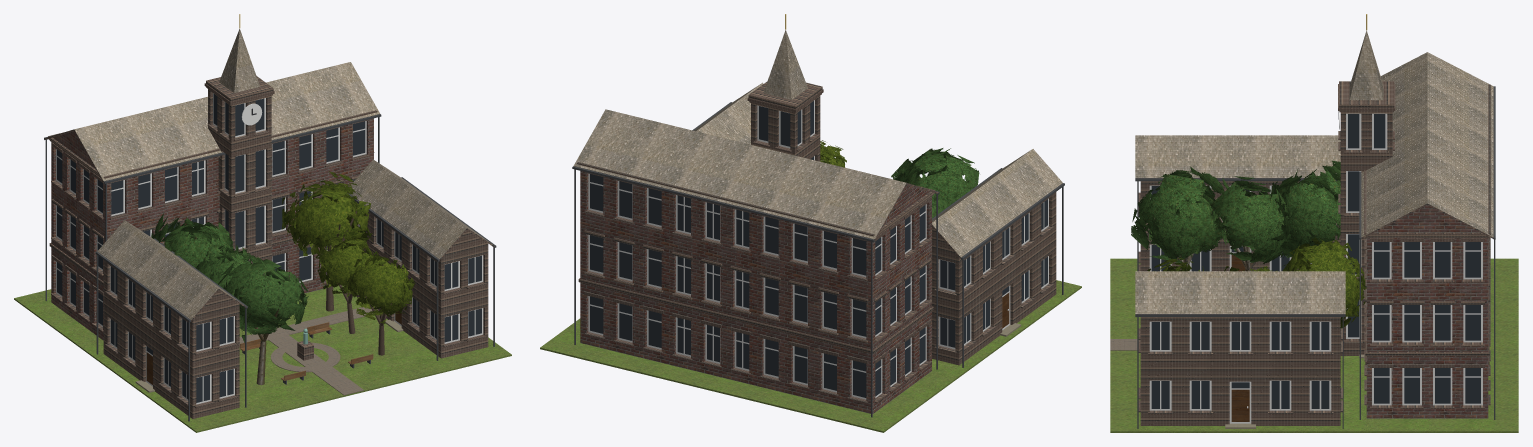
The model's file is university.glb.
3 views of the same model, side by side, from view 1: azimuth 30°, elevation 25°; view 2: azimuth 150°, elevation 25°; view 3: azimuth 270°, elevation 25° (orthographic). The views are drawn at different scales.
Parts seen in each view (by area): view 1: university_body, university_foliage; view 2: university_body, university_foliage; view 3: university_body, university_foliage.
Boxes of the visible parts, x1,y1,x2,y2 form: university_body: [14, 14, 511, 432]; university_foliage: [151, 171, 415, 342]; university_body: [540, 14, 1081, 432]; university_foliage: [820, 140, 979, 218]; university_body: [1110, 14, 1518, 432]; university_foliage: [1131, 160, 1366, 328].
Bounding box in the file's own units: 0.94 × 0.844 × 0.94.
21 materials, 12 textured.
